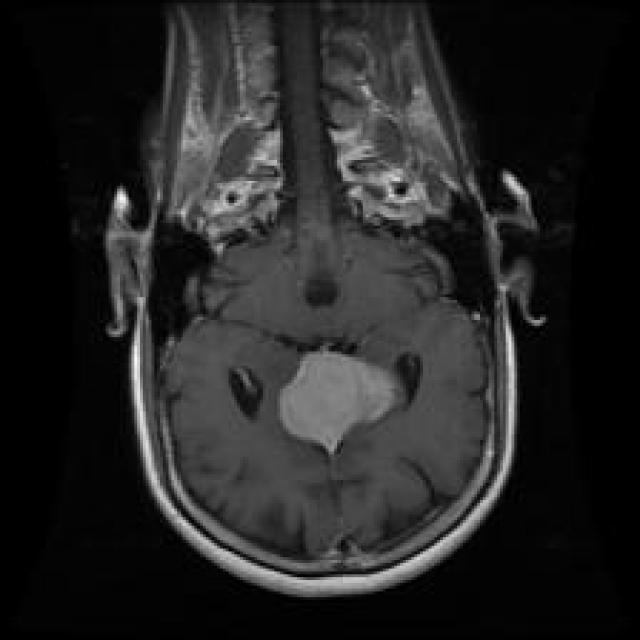meningioma_tumor: (271, 339, 409, 464)
